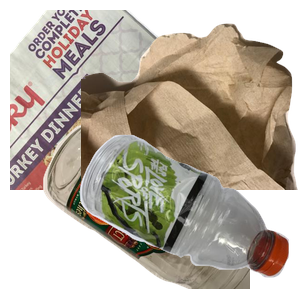glass: (41, 120, 281, 300)
paper: (10, 10, 247, 190)
plastic: (77, 132, 300, 300)
trash: (81, 21, 300, 201)
